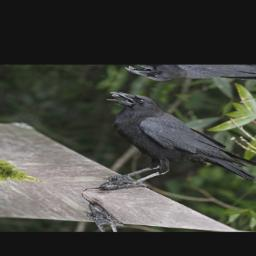Crow: (62, 87, 256, 218)
